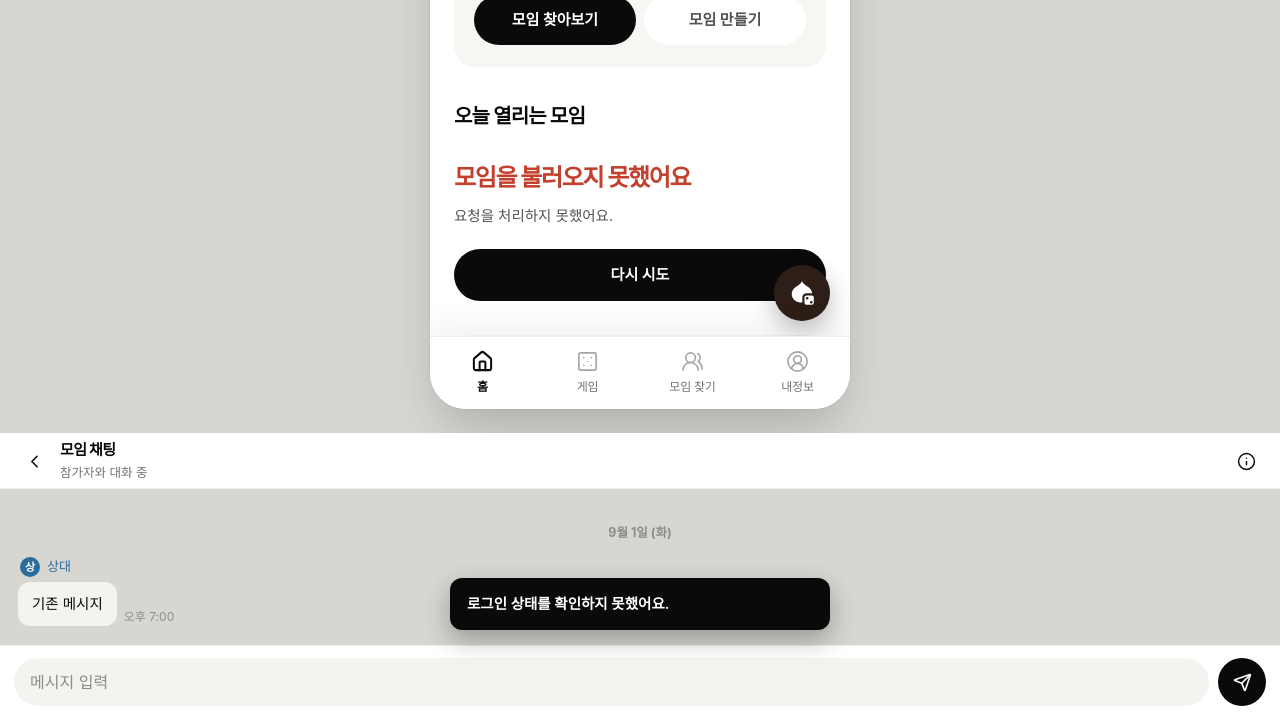
Test: #431 CHAT-03 실시간 수신·재연결 › 보낸 메시지의 실시간 이벤트가 HTTP 저장 응답보다 먼저 와도 즉시 하단으로 이동한다
This screenshot has width=1280, height=720.
(page scrolled)
Type "경합 메시지" into the text box labelled "메시지" at (612, 682), box [14, 658, 1209, 706]
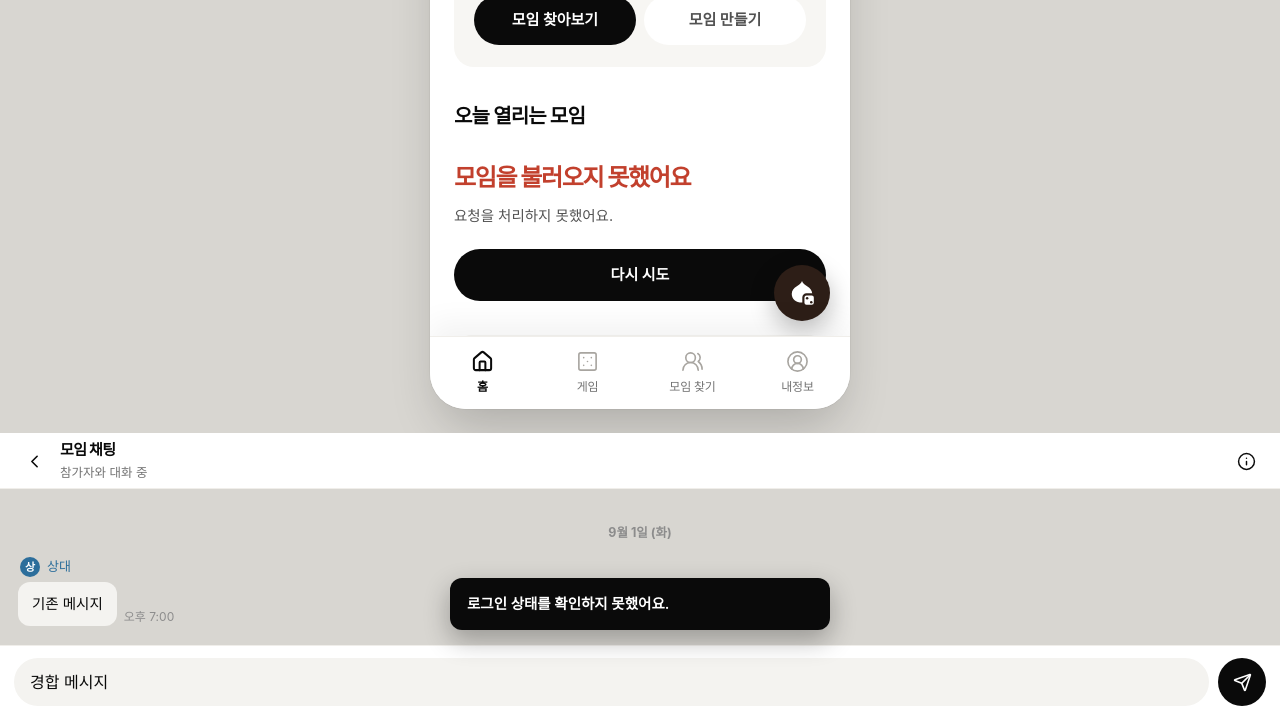
Click the button named "전송" at (1242, 682), box [1218, 658, 1266, 706]
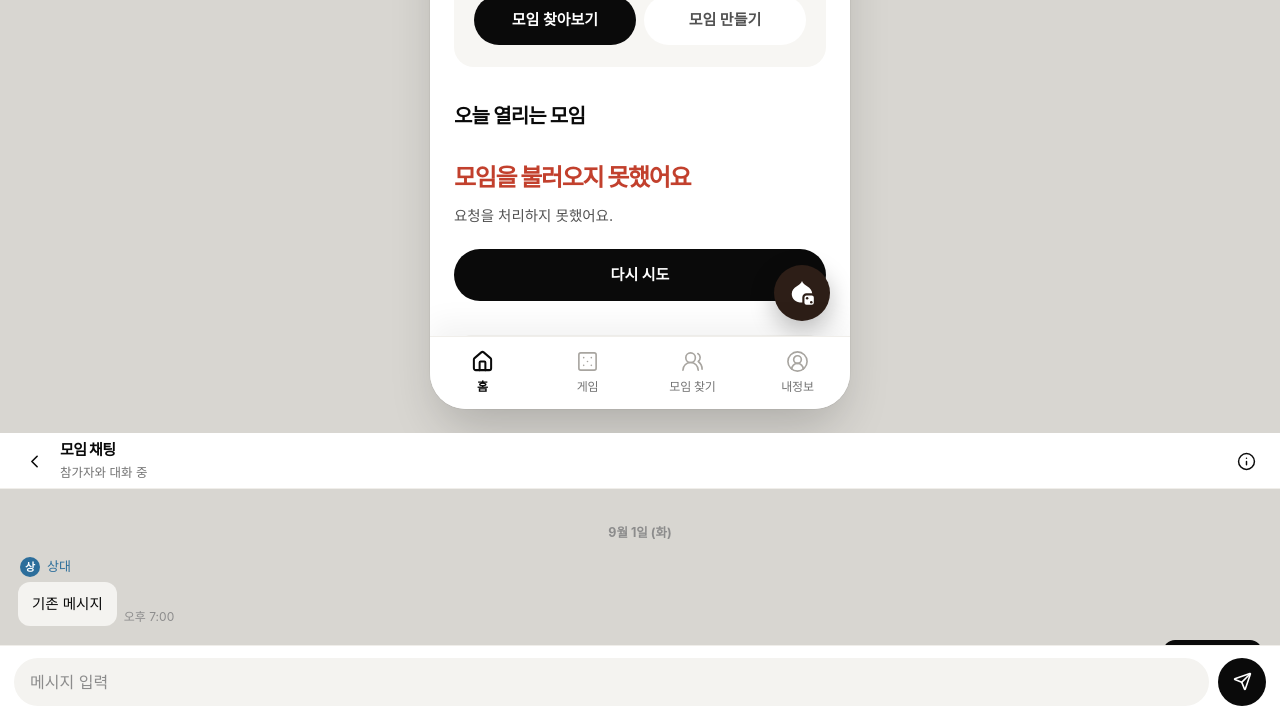
Expected: the text box labelled "메시지" is enabled, [14, 658, 1209, 706]
Now the text "경합 메시지" is shown, box [1163, 640, 1262, 685]
